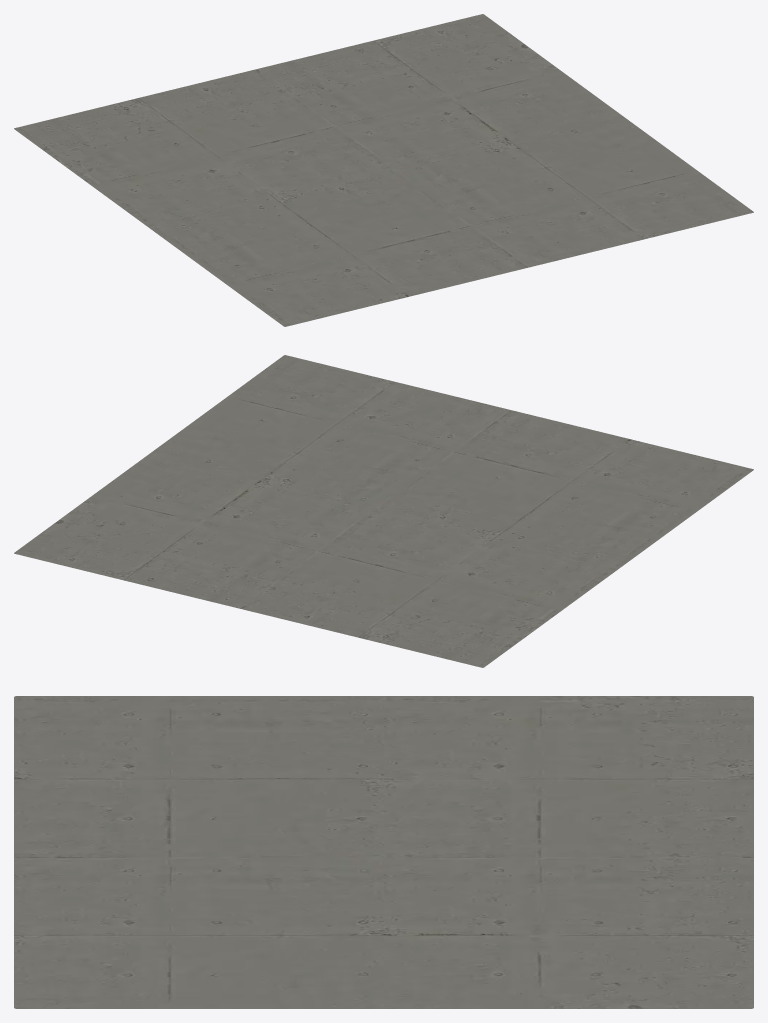
The model's file is PAV-GUI-004_anim.glb.
3 views of the same model, one above another, from view 1: azimuth 30°, elevation 25°; view 2: azimuth 150°, elevation 25°; view 3: azimuth 270°, elevation 25° (orthographic). The views are drawn at different scales.
Visible parts, largest first — view 1: PAV-GUI-004_anim0; view 2: PAV-GUI-004_anim0; view 3: PAV-GUI-004_anim0.
Part boxes in pixels (box(x1,y1,x2,y2)): PAV-GUI-004_anim0: box(14, 14, 753, 326); PAV-GUI-004_anim0: box(14, 355, 753, 667); PAV-GUI-004_anim0: box(14, 696, 753, 1008).
Bounding box in the file's own units: 1 × 0.00012 × 1.
Materials: 1 (1 with a texture image).
